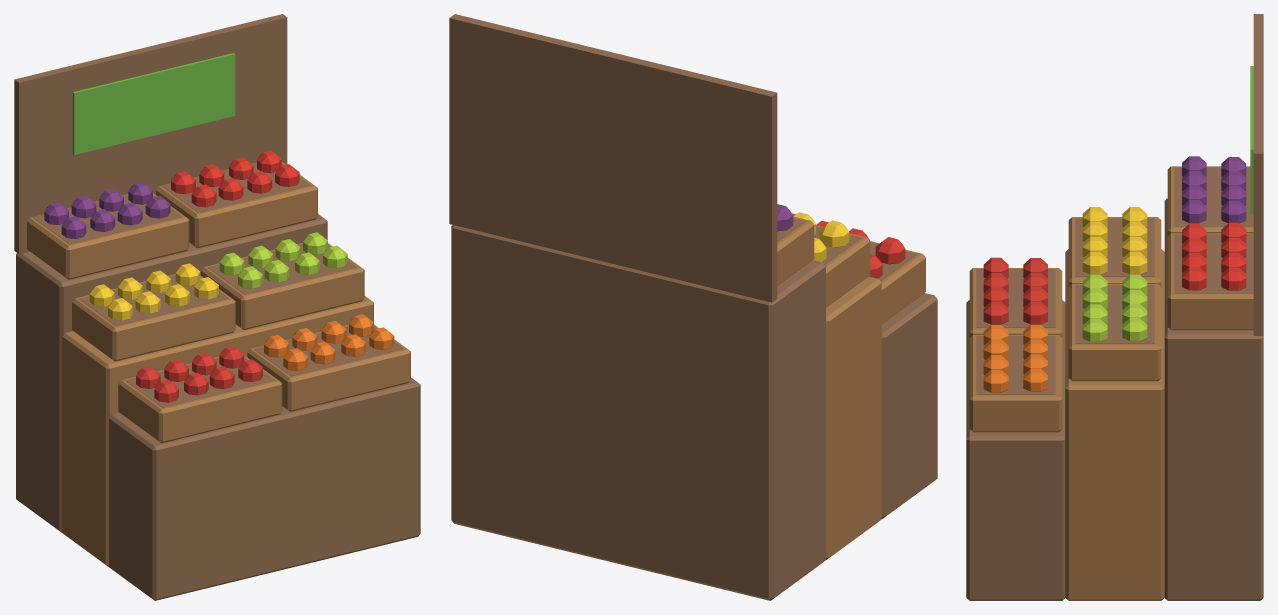
Rendered from produce_fruit.glb.
3 renders of one model, left to right at view 1: azimuth 30°, elevation 25°; view 2: azimuth 150°, elevation 25°; view 3: azimuth 270°, elevation 25°, orthographic. The views are drawn at different scales.
Visible parts, largest first — view 1: produce_fruit; view 2: produce_fruit; view 3: produce_fruit.
Boxes of the visible parts, bbox=[...] form: produce_fruit: bbox=[14, 14, 420, 600]; produce_fruit: bbox=[449, 14, 937, 600]; produce_fruit: bbox=[966, 14, 1263, 600].
Bounding box in the file's own units: 1 × 1.5 × 0.9.
1 material, 1 textured.
